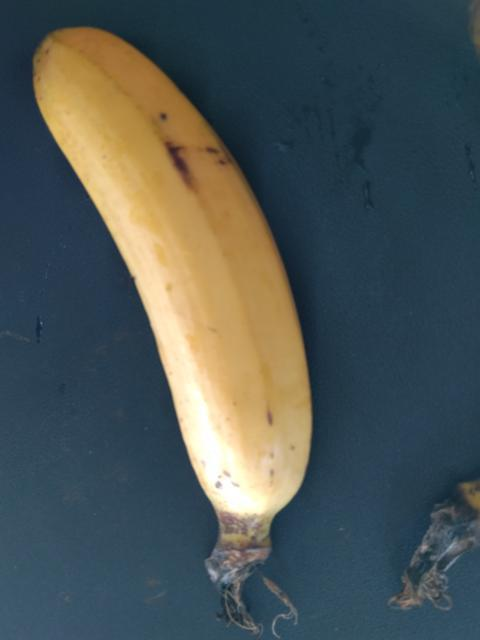freshripe: (29, 34, 329, 524)
